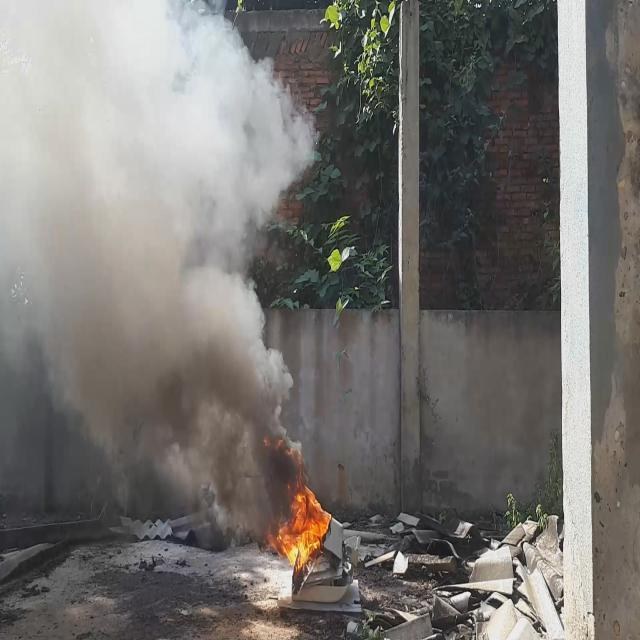Fire: (268, 478, 334, 569)
Smoke: (0, 0, 314, 544)
